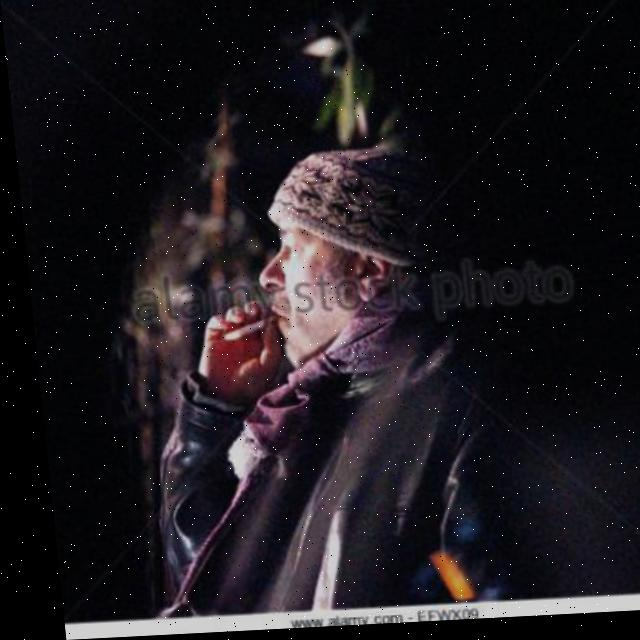cigarette: (215, 317, 276, 341)
